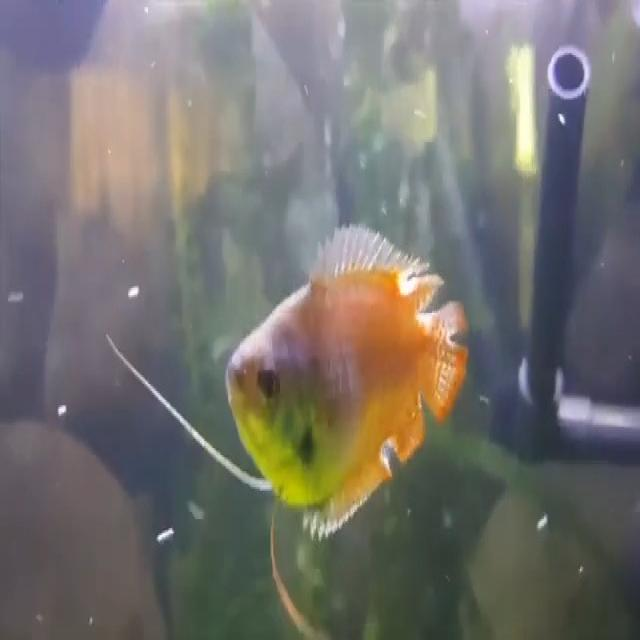fish: (224, 220, 469, 542)
